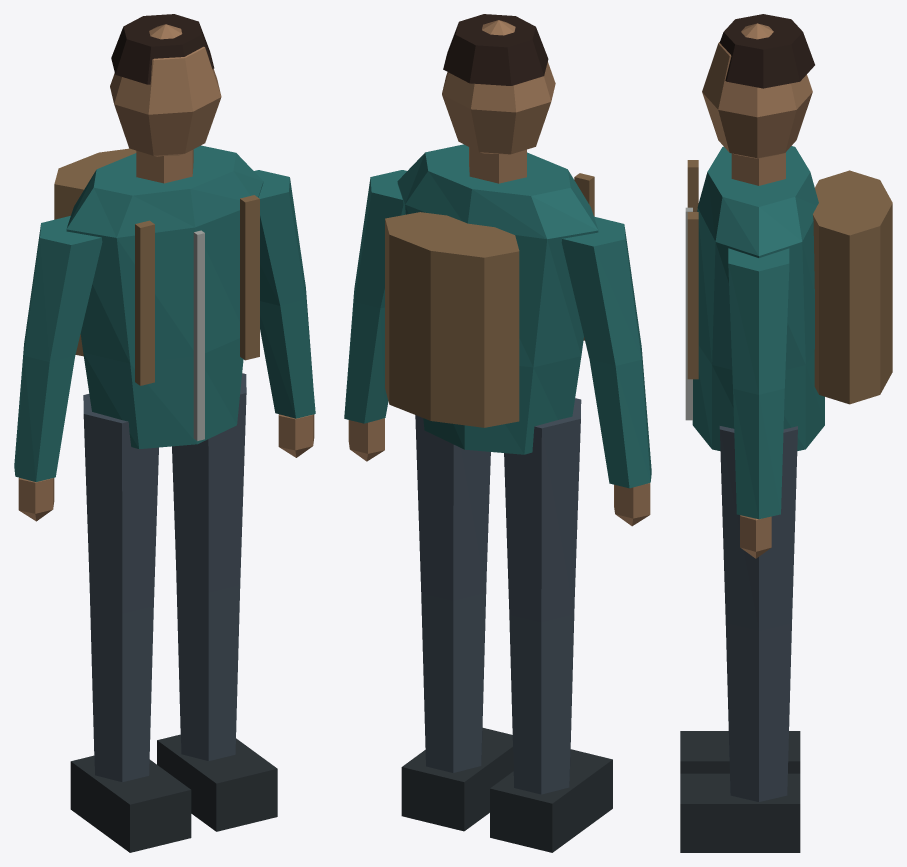
File: pedestrian-commuter.lod0.glb
The picture shows the model from 3 angles, left to right: view 1: azimuth 30°, elevation 25°; view 2: azimuth 150°, elevation 25°; view 3: azimuth 270°, elevation 25°; orthographic projection. The views are drawn at different scales.
Parts seen in each view (by area): view 1: pedestrian-body; view 2: pedestrian-body; view 3: pedestrian-body.
Part boxes in pixels (x1,y1,x2,y2): pedestrian-body: (14, 14, 315, 852); pedestrian-body: (344, 14, 651, 852); pedestrian-body: (680, 14, 892, 852).
Size of the model in its own units: 0.7124 by 1.78 by 0.4325.
